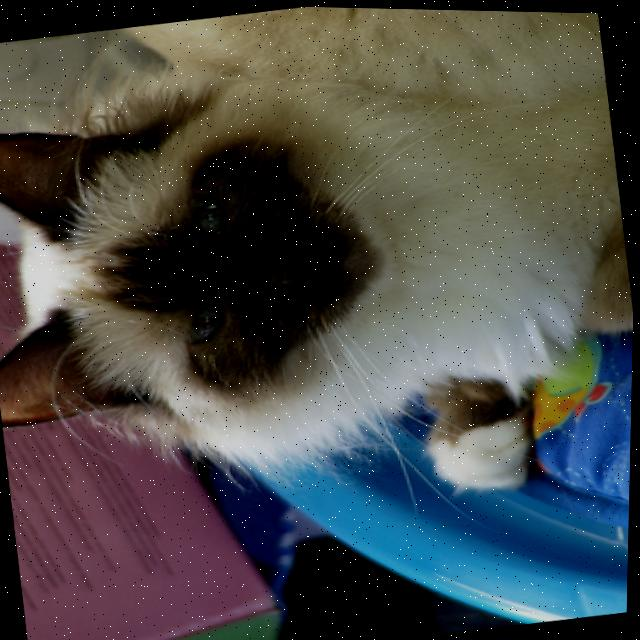Birman: (0, 0, 640, 559)
